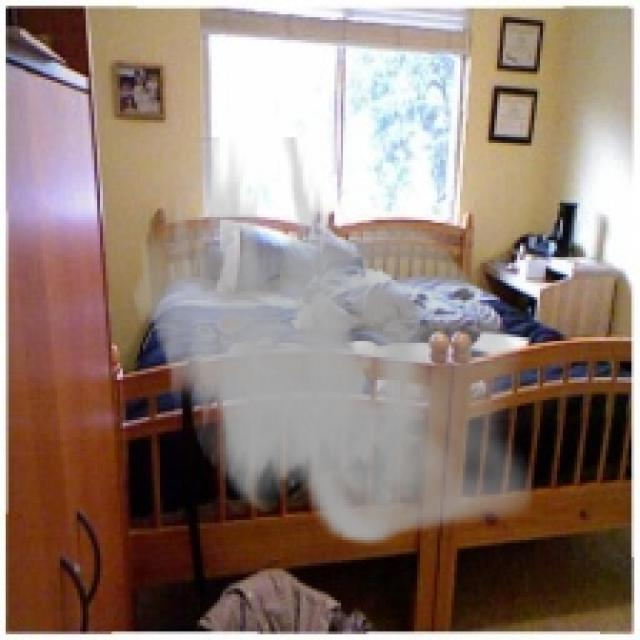smoke: (129, 137, 534, 546)
